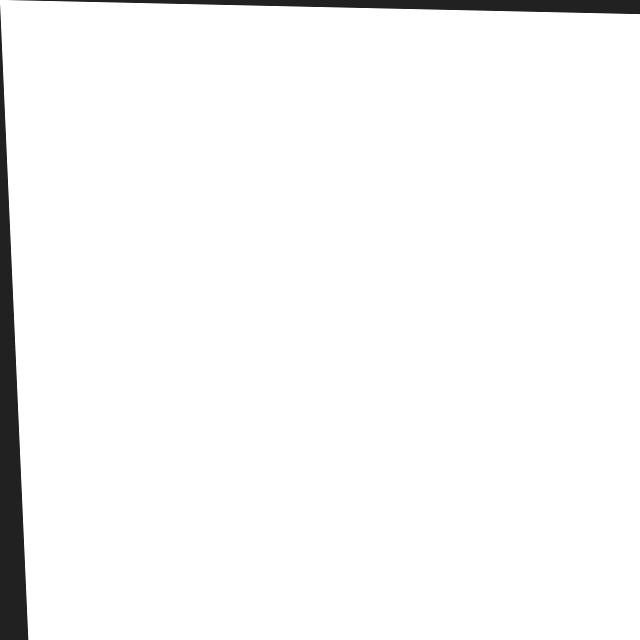qr_code: (9, 12, 640, 640)
